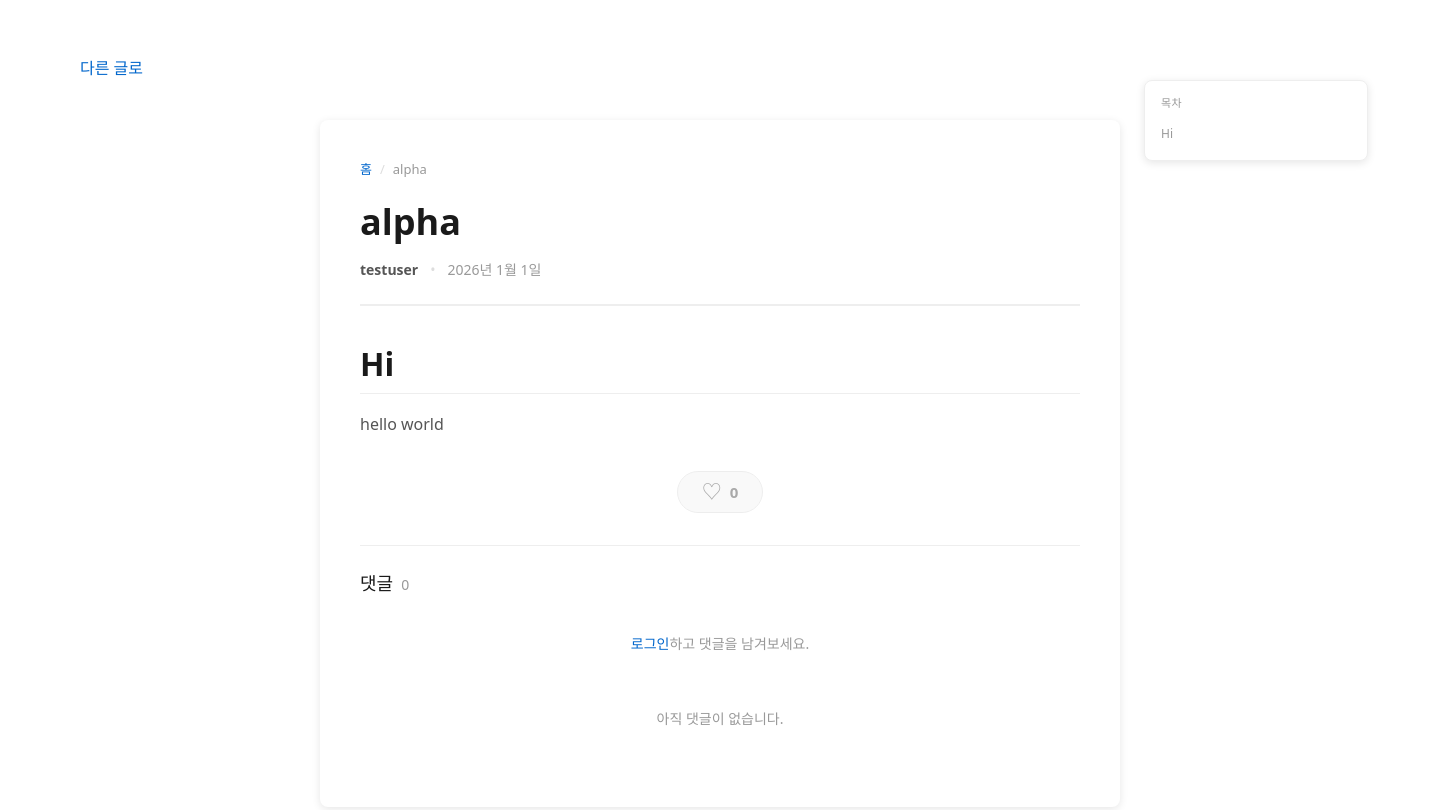
Scenario: PostDetailPage 글 사이 이동 › 다른 글 링크를 누르면 그 글을 보여 주고 이전 글로 되돌아가지 않는다
This screenshot has width=1440, height=810.
Expected: the heading "alpha" is shown, [360,196,461,246]
Click the link "다른 글로": {"x": 112, "y": 68} [80,57,143,79]
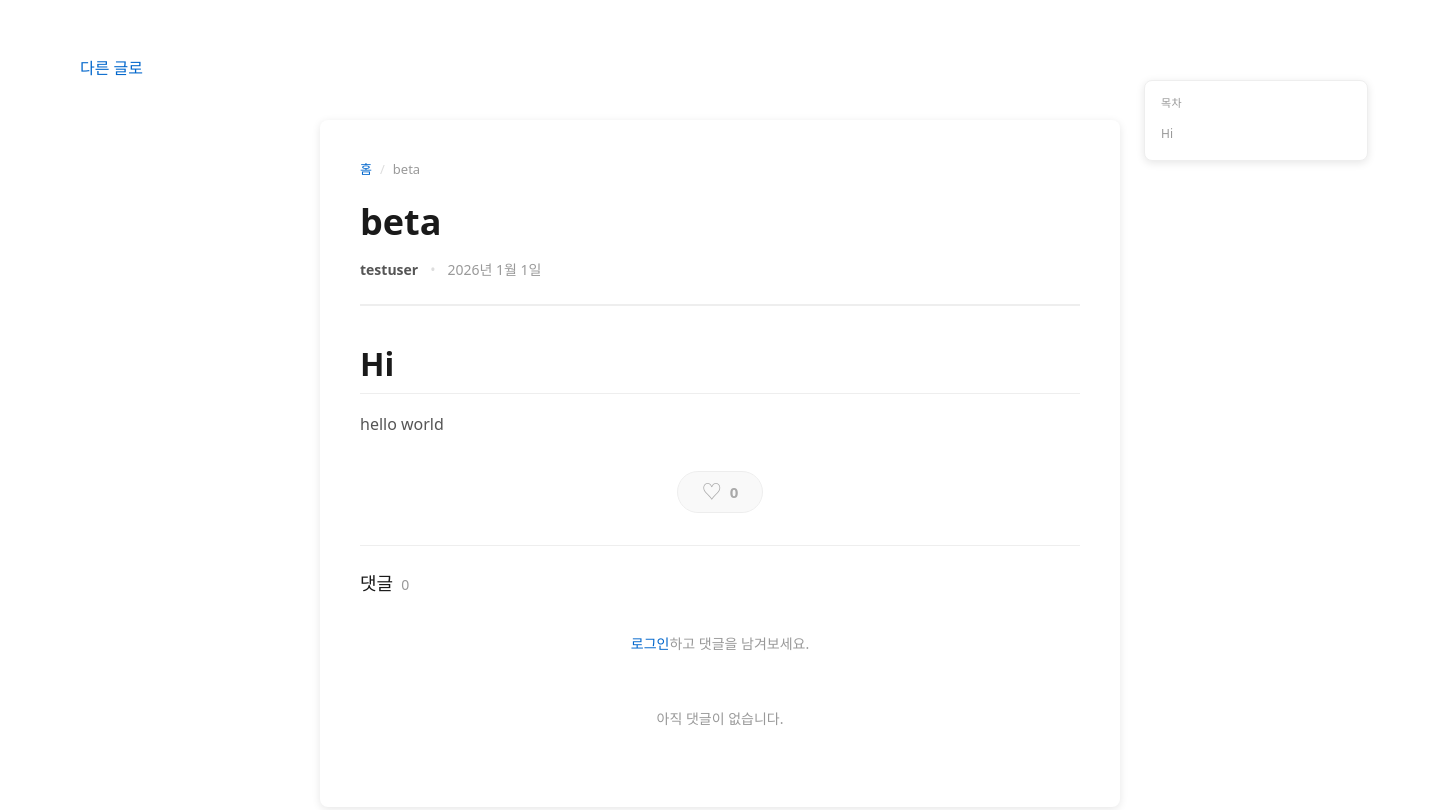
Result: the heading "beta" is shown at [360,196,441,246]
